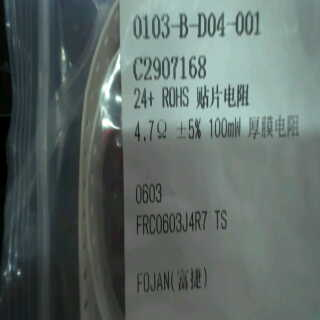4.7R: (132, 115, 172, 149)
